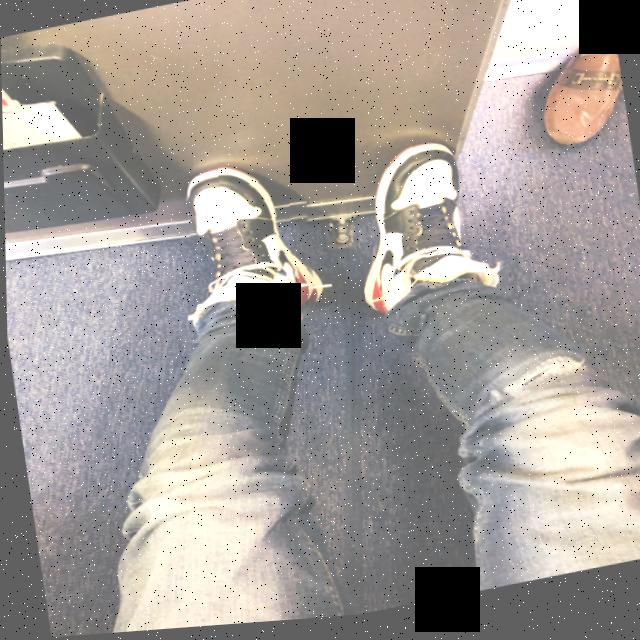shoe: (343, 131, 510, 331), (165, 150, 325, 348)
